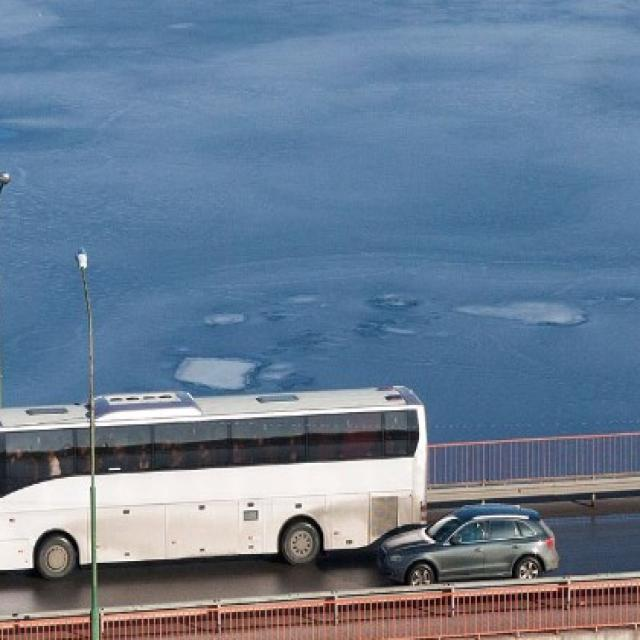bus: (0, 382, 428, 580)
car: (375, 502, 559, 586)
